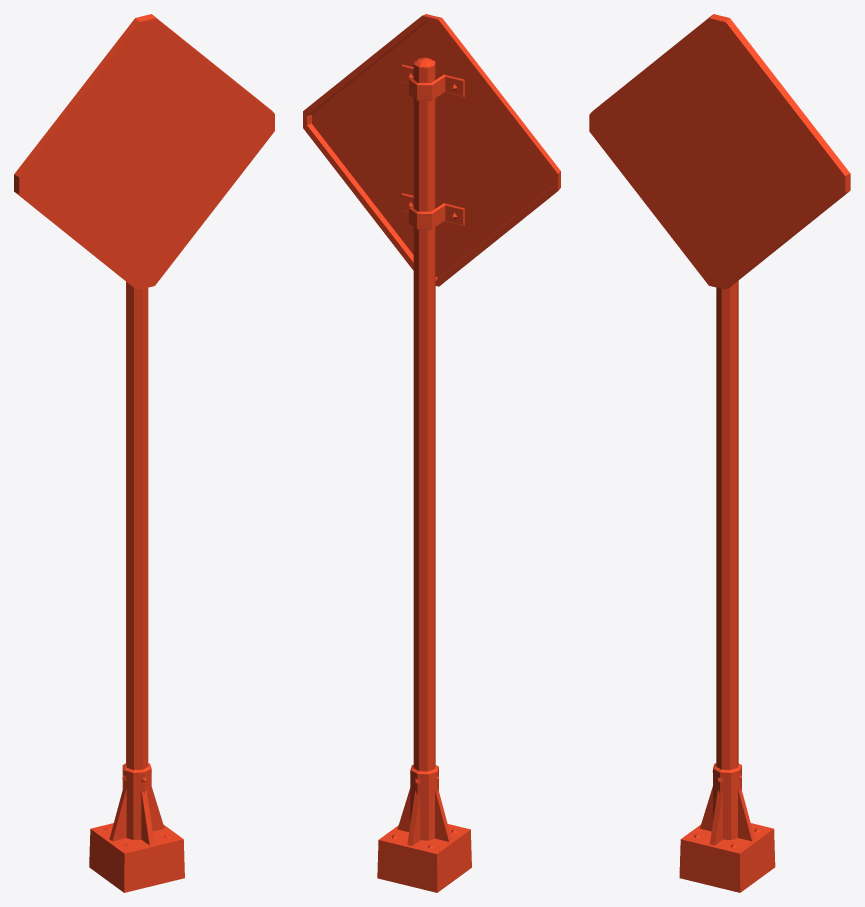
File: SM_Sign_Pedestrians_B_City.fbx
3 renders of one model, left to right at view 1: azimuth 30°, elevation 25°; view 2: azimuth 150°, elevation 25°; view 3: azimuth 330°, elevation 25°, orthographic.
Parts seen in each view (by area): view 1: SM_Sign_Pedestrians_B_City; view 2: SM_Sign_Pedestrians_B_City; view 3: SM_Sign_Pedestrians_B_City.
Part boxes in pixels (bbox=[...]): SM_Sign_Pedestrians_B_City: bbox=[14, 14, 274, 892]; SM_Sign_Pedestrians_B_City: bbox=[303, 14, 560, 892]; SM_Sign_Pedestrians_B_City: bbox=[589, 14, 850, 892].
Bounding box in the file's own units: 0.7813 × 2.49 × 0.1839.
